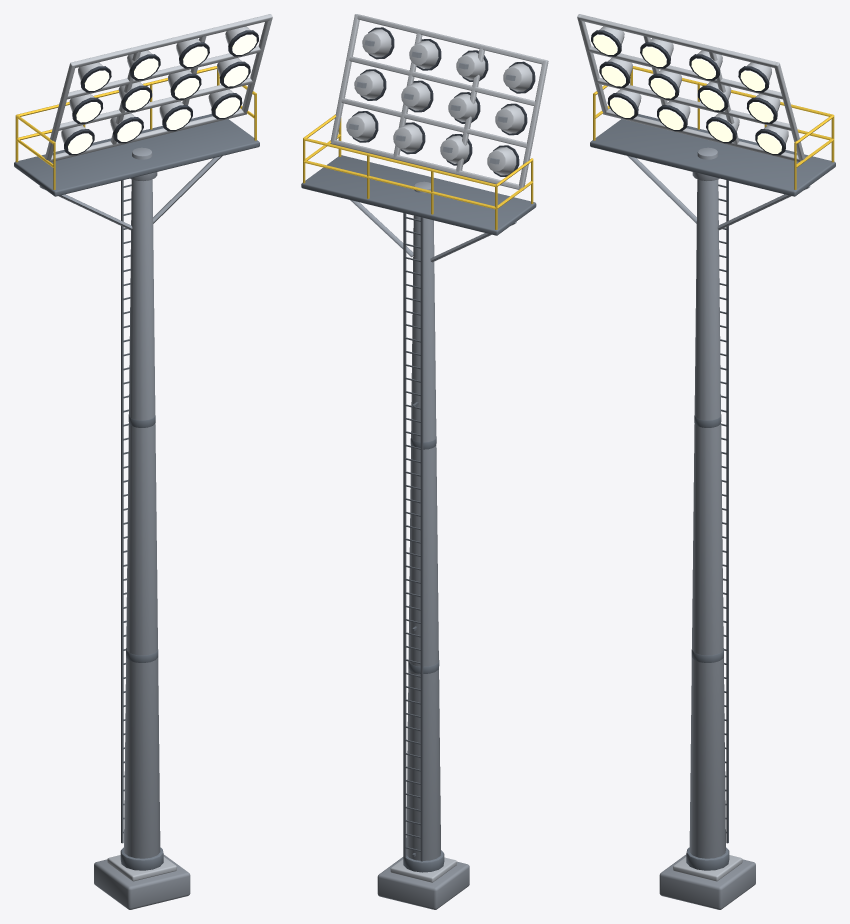
The model's file is torre_refletores.glb.
The picture shows the model from 3 angles, left to right: view 1: azimuth 30°, elevation 25°; view 2: azimuth 150°, elevation 25°; view 3: azimuth 330°, elevation 25°; orthographic projection. The views are drawn at different scales.
Parts seen in each view (by area): view 1: torre_refletores; view 2: torre_refletores; view 3: torre_refletores.
Part boxes in pixels (x1,y1,x2,y2): torre_refletores: [14, 14, 272, 909]; torre_refletores: [301, 14, 548, 909]; torre_refletores: [577, 14, 835, 909].
Bounding box in the file's own units: 4.6 × 18.67 × 2.22.
2 materials, 1 textured.
